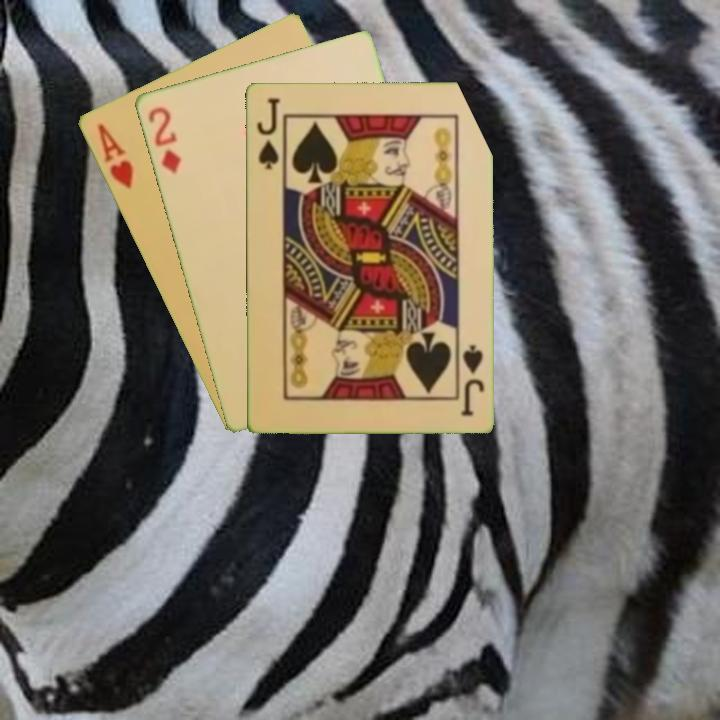2d: (144, 102, 184, 176)
Ah: (93, 120, 136, 192)
Js: (456, 340, 486, 418), (253, 93, 282, 172)
